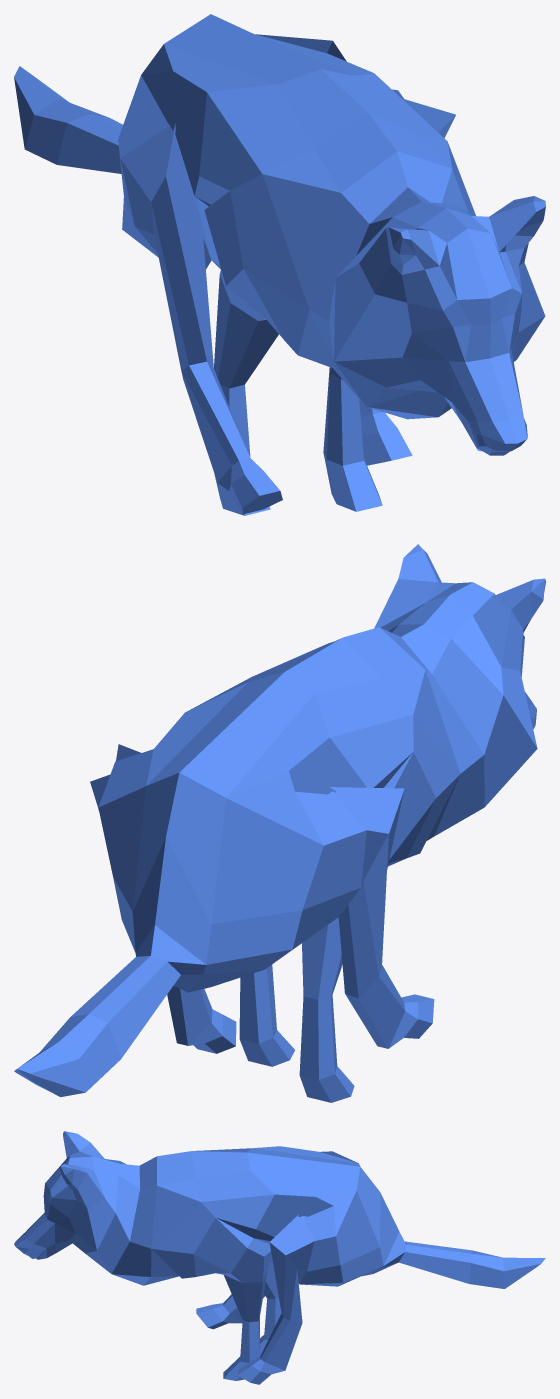
File: wolfRunA_v009011.obj
The picture shows the model from 3 angles, top to bottom: view 1: azimuth 30°, elevation 25°; view 2: azimuth 150°, elevation 25°; view 3: azimuth 270°, elevation 25°; orthographic projection. The views are drawn at different scales.
Visible parts, largest first — view 1: comp_wolf_rig:wolf_body comp_wolf_rig:wolf; view 2: comp_wolf_rig:wolf_body comp_wolf_rig:wolf; view 3: comp_wolf_rig:wolf_body comp_wolf_rig:wolf.
Boxes of the visible parts, x1,y1,x2,y2 form: comp_wolf_rig:wolf_body comp_wolf_rig:wolf: (14,14,545,515); comp_wolf_rig:wolf_body comp_wolf_rig:wolf: (14,544,545,1102); comp_wolf_rig:wolf_body comp_wolf_rig:wolf: (14,1131,545,1384).
Bounding box in the file's own units: 43.4 × 58.84 × 131.
